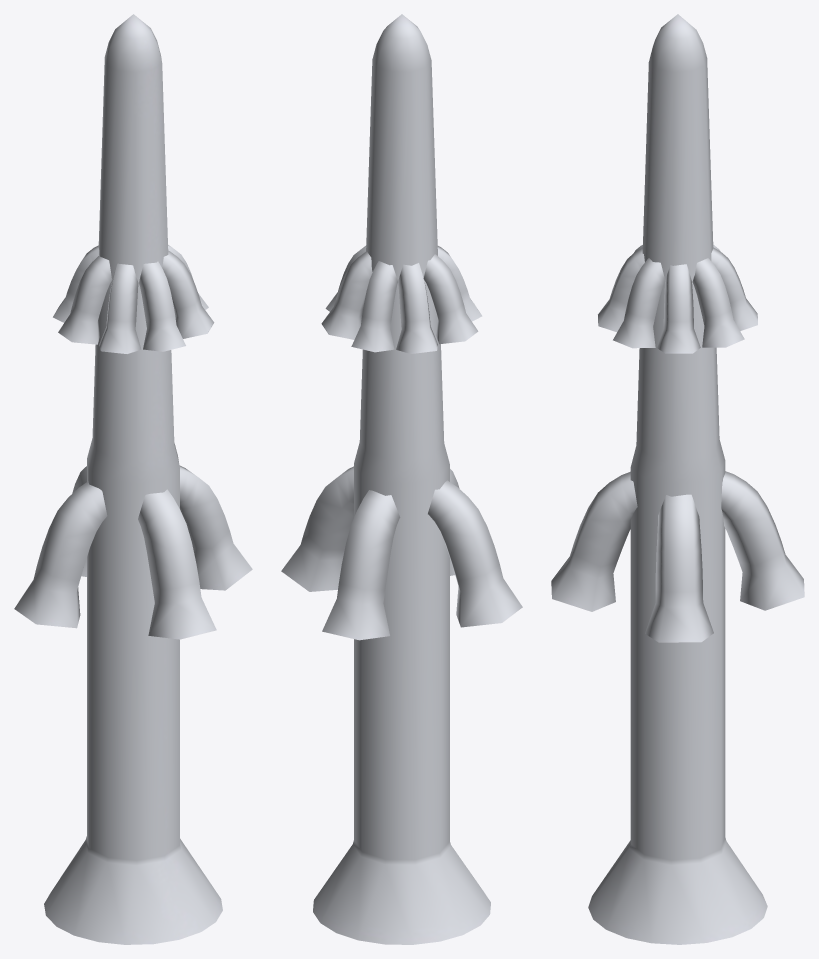
The model's file is TaoYiTa.FBX.
The picture shows the model from 3 angles, left to right: view 1: azimuth 30°, elevation 25°; view 2: azimuth 150°, elevation 25°; view 3: azimuth 270°, elevation 25°; orthographic projection.
Parts seen in each view (by area): view 1: TaoYiTa; view 2: TaoYiTa; view 3: TaoYiTa.
Boxes of the visible parts, bbox=[...] form: TaoYiTa: bbox=[14, 14, 252, 944]; TaoYiTa: bbox=[281, 14, 522, 944]; TaoYiTa: bbox=[551, 14, 804, 944].
Size of the model in its own units: 50.27 by 195 by 50.27.
